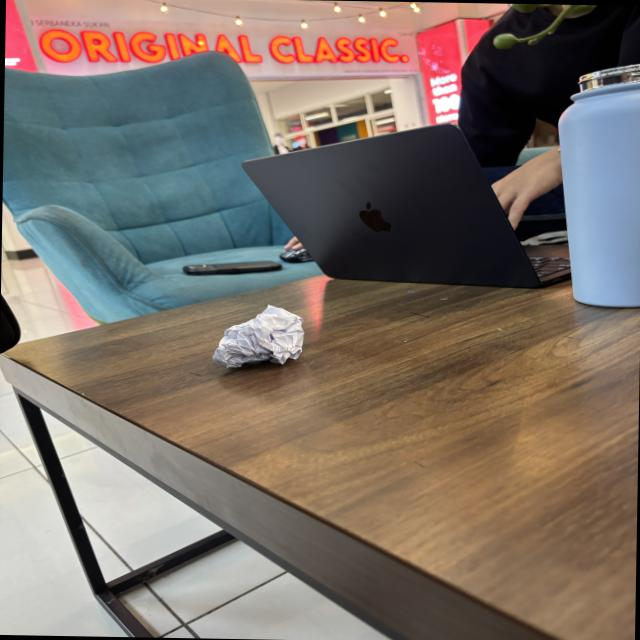crumpled_paper: (207, 300, 310, 376)
